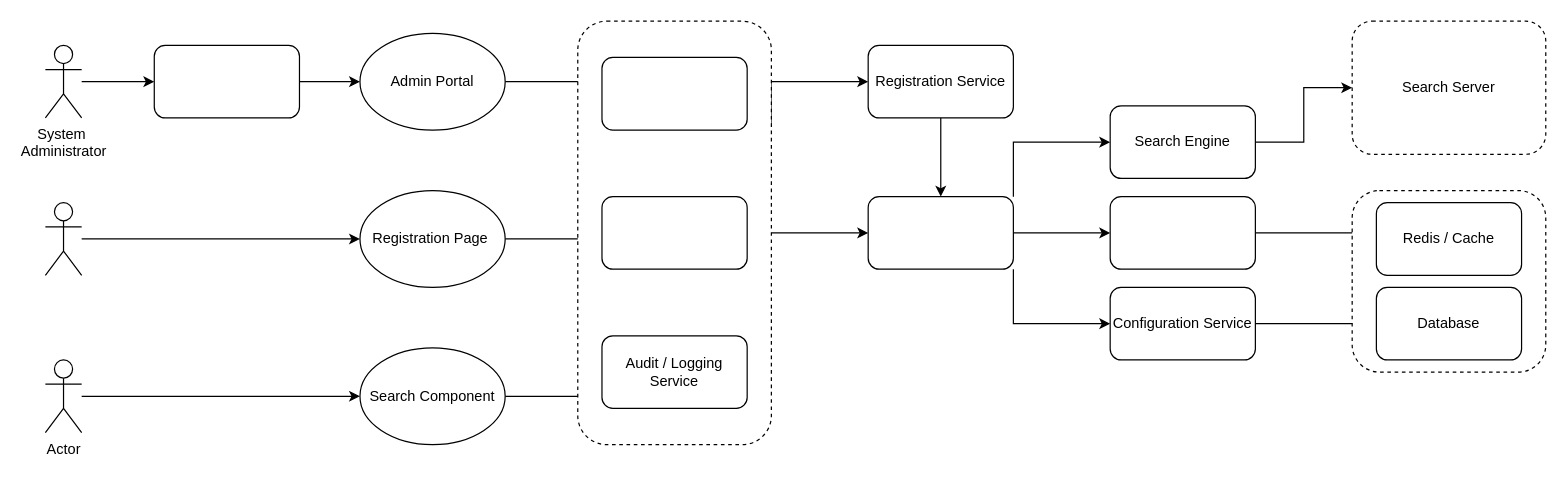
Image size: 1567x479. Some labels were removed from this diagram. Each missing label, with the box of its shape:
Authentication Layer: (153, 44, 299, 118)
Azure WAF Front Door: (601, 56, 747, 130)
Customer: (44, 201, 82, 275)
Operational Service: (1109, 195, 1255, 269)
Orchestrator Service: (867, 195, 1013, 269)
Proxy Gateway: (601, 195, 747, 269)
